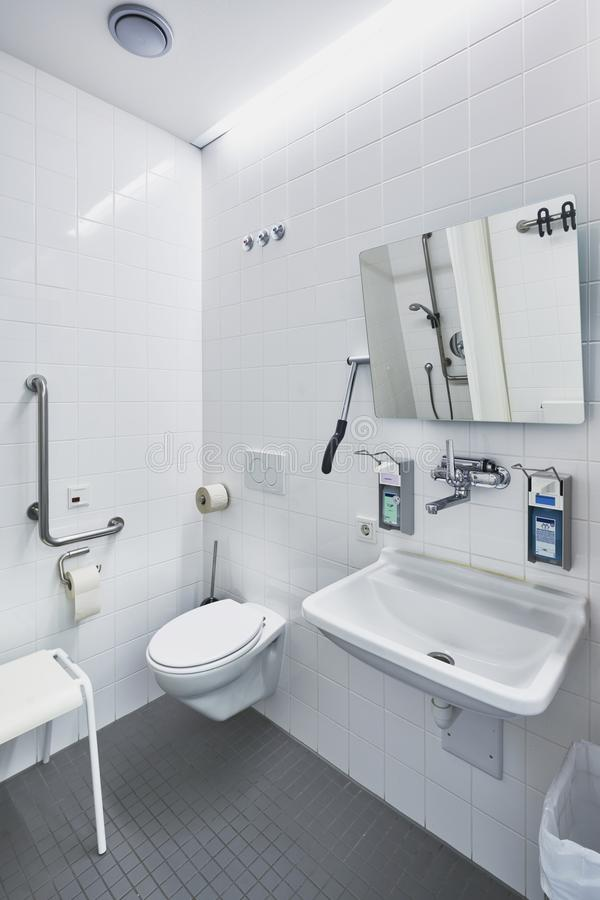chair: (1, 638, 108, 857)
dispenser: (510, 462, 574, 572), (354, 450, 416, 536), (56, 545, 107, 626), (194, 480, 233, 518)
faucet: (426, 438, 512, 518)
restroom_assist_bar: (23, 374, 125, 548)
sink: (302, 544, 589, 728)
toilet: (146, 599, 287, 722)
waste_bin: (536, 730, 598, 895)
